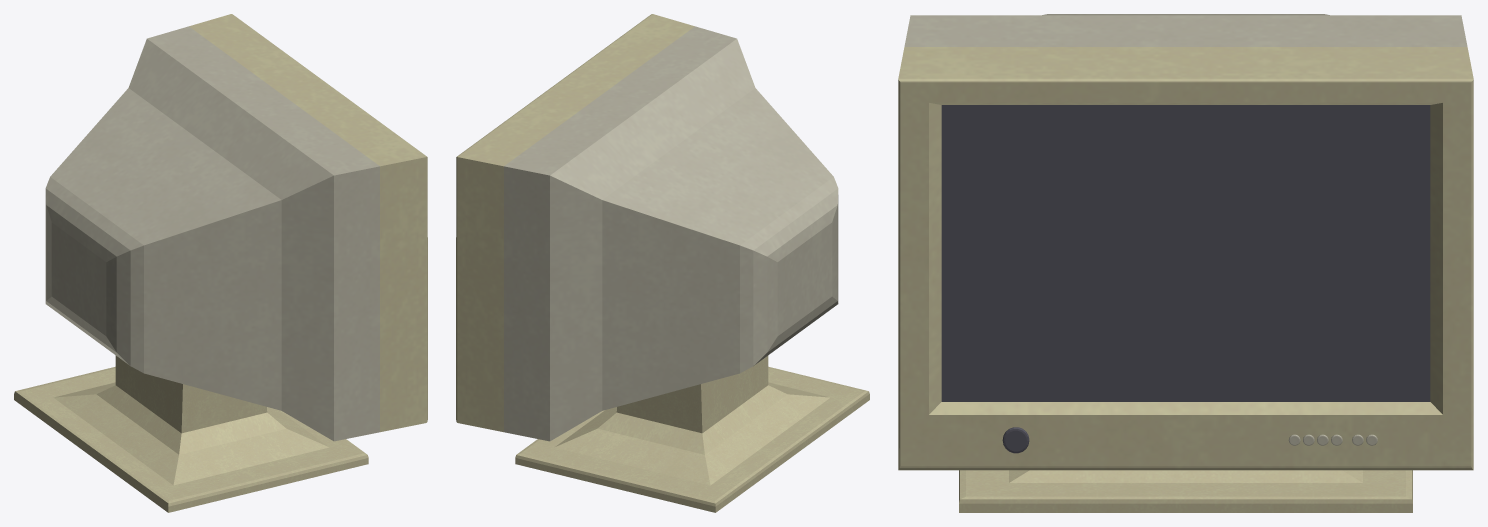
The model's file is monitor.fbx.
3 views of the same model, side by side, from view 1: azimuth 30°, elevation 25°; view 2: azimuth 150°, elevation 25°; view 3: azimuth 270°, elevation 25° (orthographic). The views are drawn at different scales.
Visible parts, largest first — view 1: Cube, Cube.001; view 2: Cube, Cube.001; view 3: Cube, Cube.001.
Part boxes in pixels (x1,y1,x2,y2): Cube: (45, 14, 427, 441); Cube.001: (14, 355, 368, 512); Cube: (456, 14, 838, 441); Cube.001: (515, 355, 869, 512); Cube: (898, 14, 1473, 470); Cube.001: (959, 470, 1412, 512).
Size of the model in its own units: 200 by 235 by 266.
3 materials, 2 textured.
